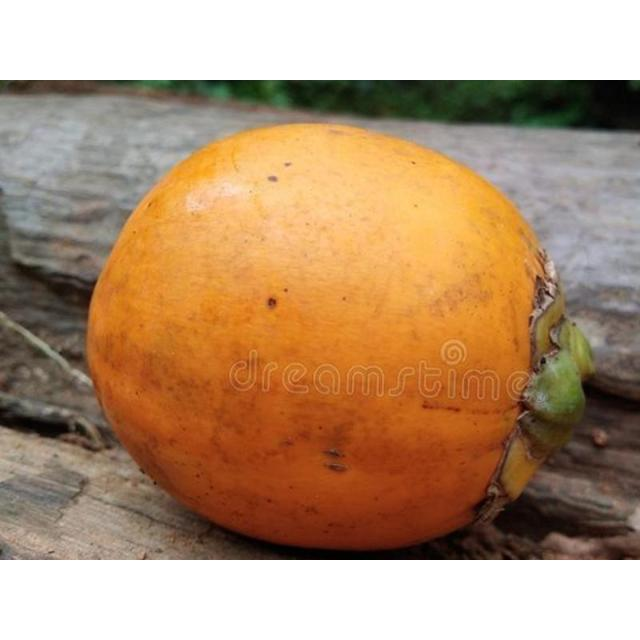good: (85, 123, 594, 554)
